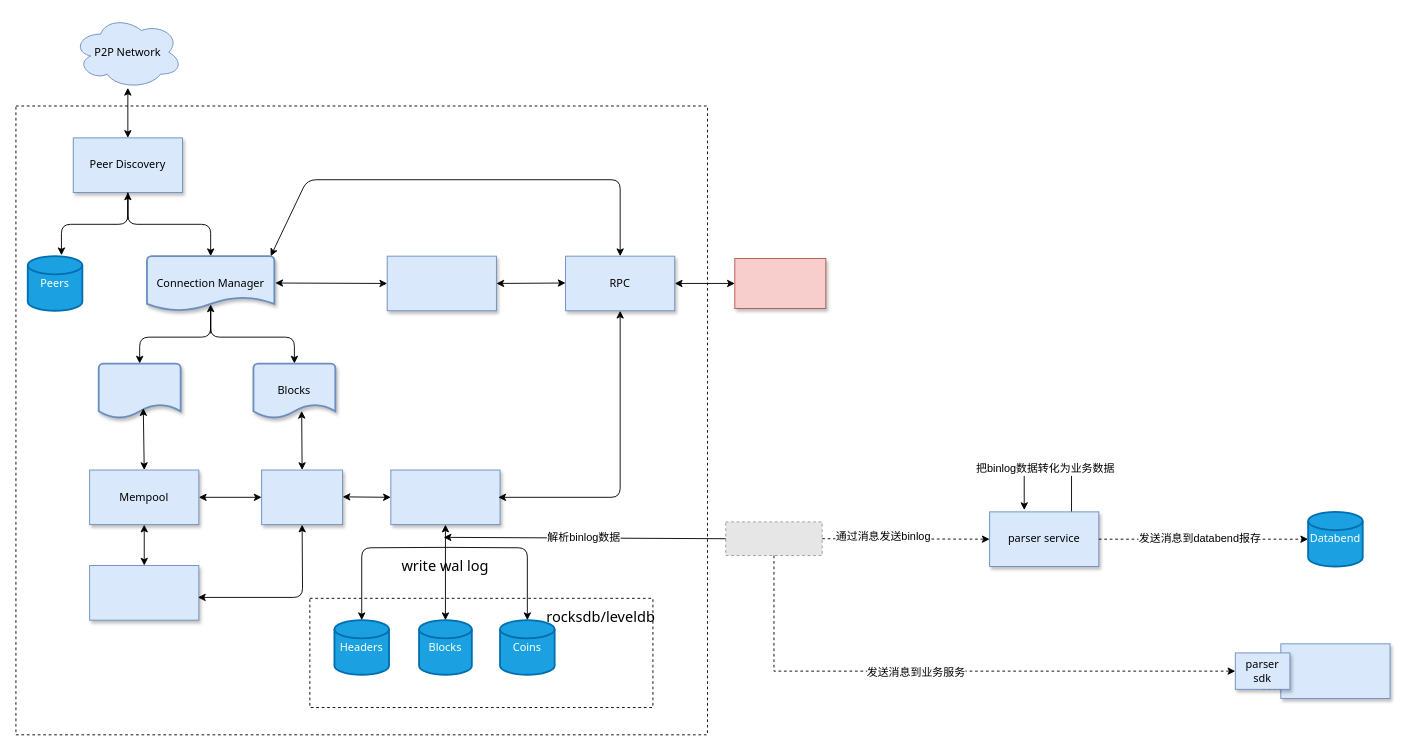
The diagram is 1411 pixels wide and 751 high, and some of its shapes have lost their labels. Grey dashed boxes stand in for pictures. The shapes that lost their labels are listed below. From the top down, each one's centre as x and y in pixels, then its label:
At [442,284]: "Wallet".
At [780,284]: "APP".
At [140,392]: "Txs".
At [302,498]: "Validation Engine".
At [446,498]: "Storage Engine".
At [144,594]: "Miner".
At [1335,672]: "business service".
